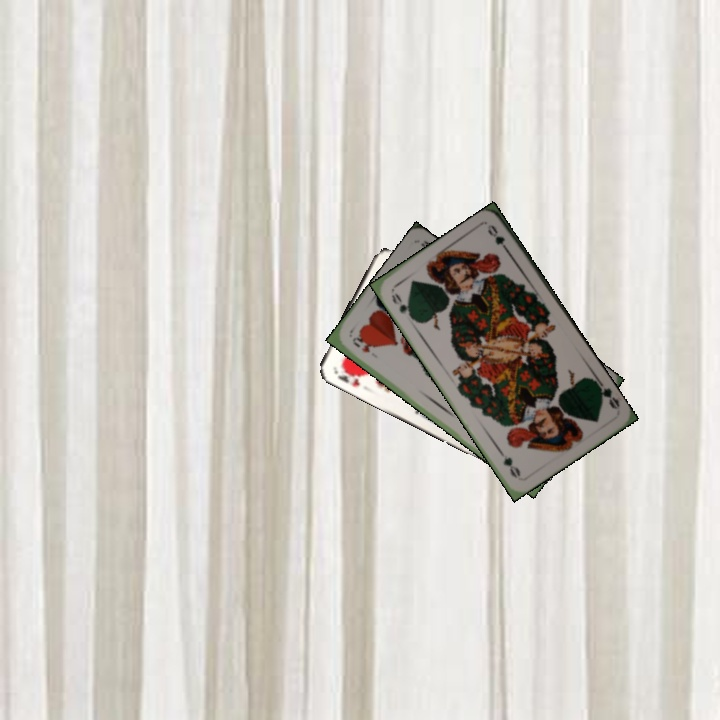GO: (592, 376, 622, 412), (387, 289, 416, 322)
HK: (330, 363, 362, 389)
HO: (348, 333, 373, 355)
